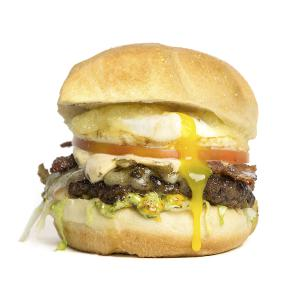cheeseburger: (31, 37, 269, 280)
